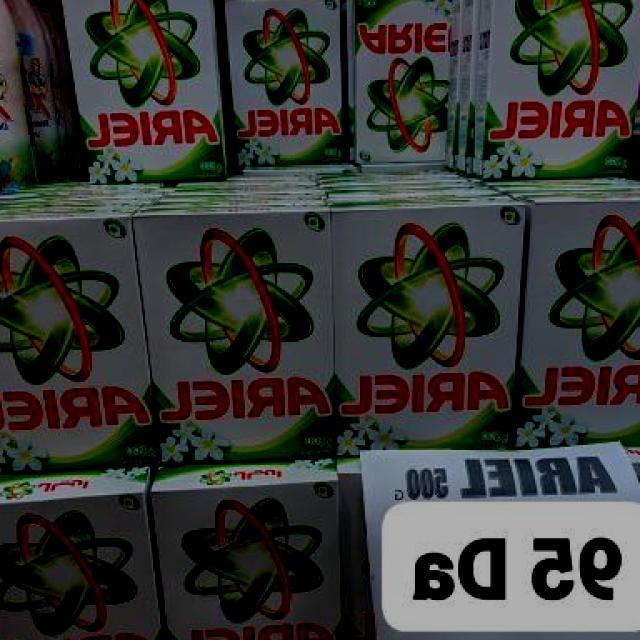Detergent: (338, 203, 524, 457), (153, 206, 332, 464), (0, 212, 160, 466), (152, 461, 339, 640), (515, 192, 640, 448), (470, 0, 640, 182), (70, 0, 224, 176), (0, 465, 154, 640), (347, 0, 460, 162), (238, 0, 344, 165)
